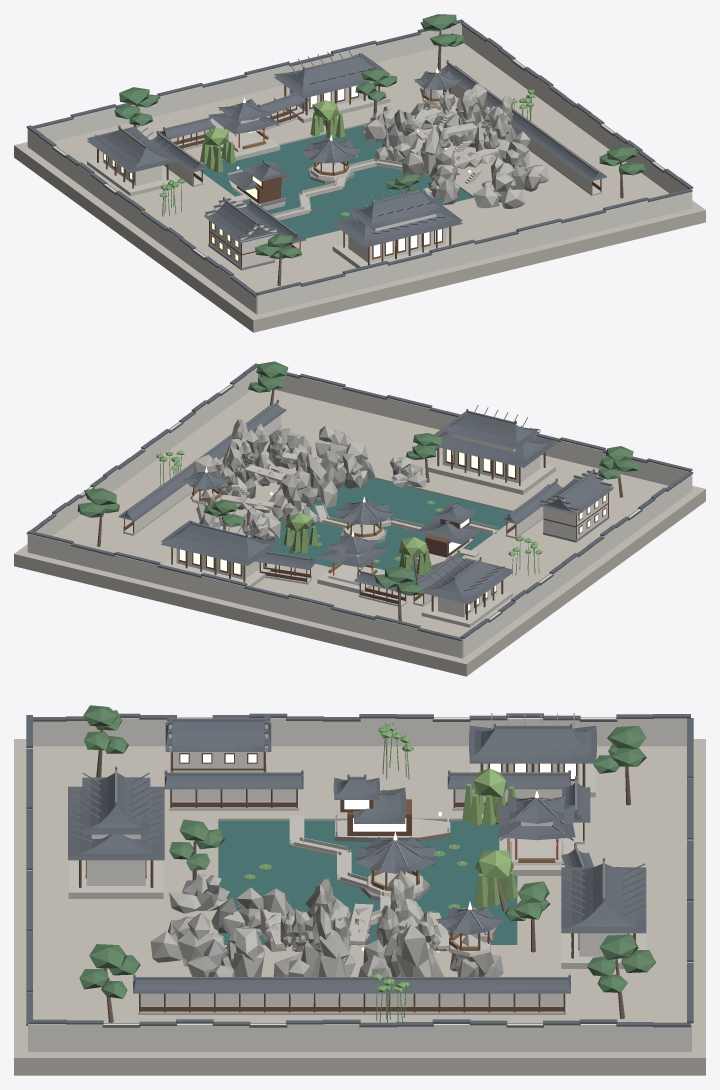
Rendered from shizilin_garden.glb.
The picture shows the model from 3 angles, top to bottom: view 1: azimuth 30°, elevation 25°; view 2: azimuth 150°, elevation 25°; view 3: azimuth 270°, elevation 25°; orthographic projection. The views are drawn at different scales.
Parts seen in each view (by area): view 1: Shizilin_courtyard, Shizilin_white_wall, Shizilin_dark_tile, Shizilin_taihu_rock, Shizilin_water, Shizilin_stone_light, Shizilin_pine, Shizilin_dark_wood, Shizilin_tile_ridge, Shizilin_taihu_dark, Shizilin_willow, Shizilin_emissive_win (+2 smaller); view 2: Shizilin_courtyard, Shizilin_white_wall, Shizilin_dark_tile, Shizilin_taihu_rock, Shizilin_stone_light, Shizilin_water, Shizilin_pine, Shizilin_dark_wood, Shizilin_tile_ridge, Shizilin_taihu_dark, Shizilin_willow, Shizilin_emissive_win (+2 smaller); view 3: Shizilin_courtyard, Shizilin_dark_tile, Shizilin_white_wall, Shizilin_taihu_rock, Shizilin_water, Shizilin_stone_light, Shizilin_pine, Shizilin_dark_wood, Shizilin_tile_ridge, Shizilin_willow, Shizilin_taihu_dark, Shizilin_emissive_win (+3 smaller).
Boxes of the visible parts, box(x1,y1,x2,y2) form: Shizilin_courtyard: box(14, 43, 705, 332); Shizilin_white_wall: box(27, 23, 692, 314); Shizilin_dark_tile: box(26, 19, 693, 297); Shizilin_taihu_rock: box(363, 83, 548, 208); Shizilin_water: box(200, 125, 472, 238); Shizilin_stone_light: box(87, 89, 602, 267); Shizilin_pine: box(114, 14, 645, 258); Shizilin_dark_wood: box(97, 82, 601, 267); Shizilin_tile_ridge: box(95, 47, 599, 236); Shizilin_taihu_dark: box(364, 103, 527, 204); Shizilin_willow: box(200, 100, 345, 172); Shizilin_emissive_win: box(104, 82, 441, 260); Shizilin_courtyard: box(14, 390, 705, 676); Shizilin_white_wall: box(27, 367, 692, 658); Shizilin_dark_tile: box(26, 363, 693, 641); Shizilin_taihu_rock: box(190, 419, 426, 540); Shizilin_stone_light: box(123, 426, 555, 627); Shizilin_water: box(268, 478, 510, 583); Shizilin_pine: box(77, 361, 638, 595); Shizilin_dark_wood: box(123, 447, 608, 619); Shizilin_tile_ridge: box(126, 399, 594, 591); Shizilin_taihu_dark: box(199, 436, 422, 540); Shizilin_willow: box(283, 513, 431, 575); Shizilin_emissive_win: box(179, 449, 605, 611); Shizilin_courtyard: box(14, 739, 705, 1075); Shizilin_dark_tile: box(26, 713, 693, 1027); Shizilin_white_wall: box(28, 717, 691, 1051); Shizilin_taihu_rock: box(150, 870, 494, 976); Shizilin_water: box(218, 820, 517, 944); Shizilin_stone_light: box(68, 763, 646, 1014); Shizilin_pine: box(79, 705, 655, 998); Shizilin_dark_wood: box(79, 752, 635, 1012); Shizilin_tile_ridge: box(68, 713, 645, 979); Shizilin_willow: box(462, 768, 518, 908); Shizilin_taihu_dark: box(171, 880, 503, 976); Shizilin_emissive_win: box(85, 754, 578, 946).
Bounding box in the file's own units: 96 × 14.58 × 88.
